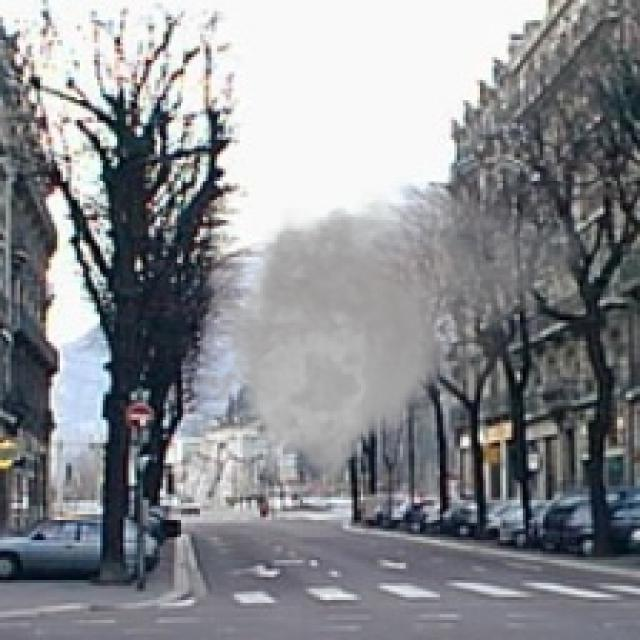Smoke: (179, 171, 592, 520)
